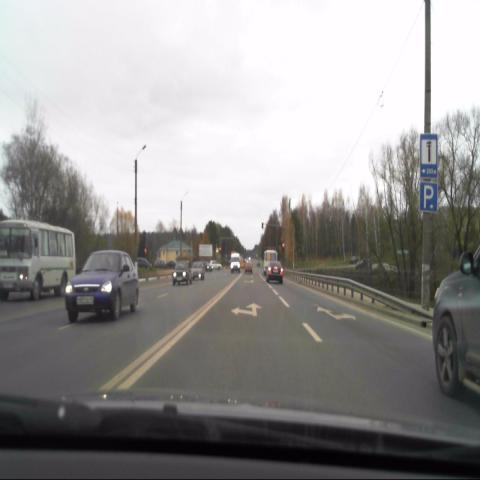7_4: (418, 134, 438, 178)
